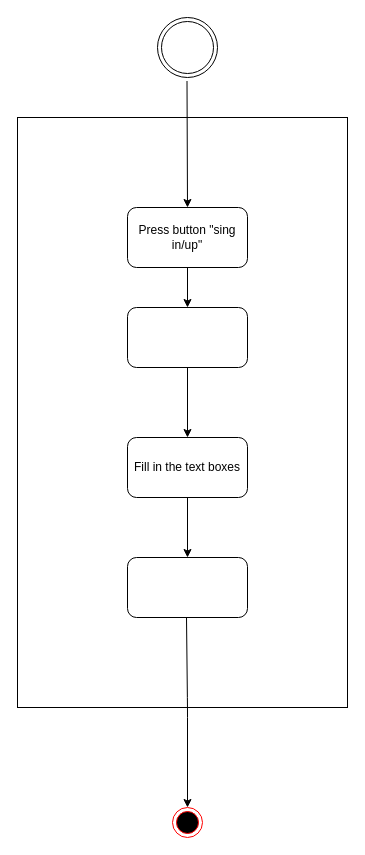
Image size: 365x855. Some labels were removed from this diagram. Each missing label, with the box of its shape:
Press button "Finish": (126, 556, 248, 618)
Press button "Have no account? Sign up!": (126, 306, 248, 368)
